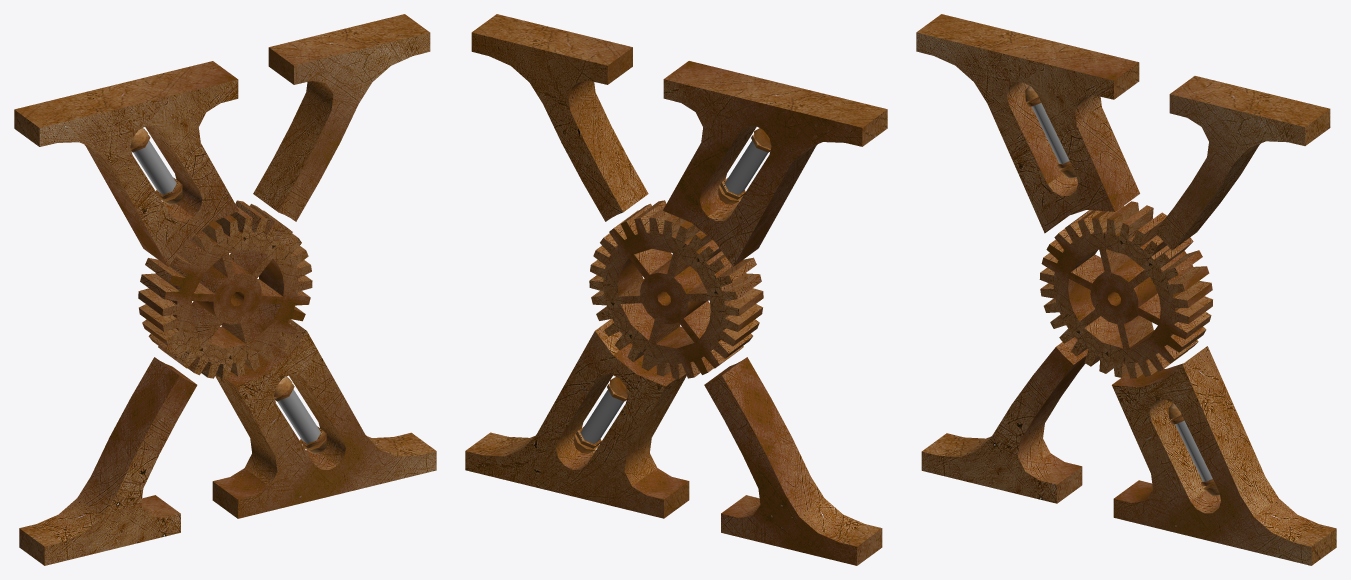
3 views of the same model, side by side, from view 1: azimuth 30°, elevation 25°; view 2: azimuth 150°, elevation 25°; view 3: azimuth 330°, elevation 25° (orthographic).
Parts seen in each view (by area): view 1: X, Cogwheel_306, Tube055, Tube047; view 2: X, Cogwheel_306, Tube047, Tube055; view 3: X, Cogwheel_306, Tube047, Tube055.
Boxes of the visible parts, left/top/right/bottom form: X: left=14, top=14, right=436, bottom=565; Cogwheel_306: left=138, top=200, right=312, bottom=378; Tube055: left=277, top=389, right=320, bottom=443; Tube047: left=133, top=140, right=176, bottom=194; X: left=465, top=14, right=887, bottom=565; Cogwheel_306: left=589, top=200, right=763, bottom=378; Tube047: left=724, top=140, right=767, bottom=195; Tube055: left=580, top=389, right=623, bottom=443; X: left=916, top=14, right=1336, bottom=565; Cogwheel_306: left=1039, top=201, right=1212, bottom=378; Tube047: left=1031, top=103, right=1069, bottom=163; Tube055: left=1175, top=420, right=1212, bottom=481.
Bounding box in the file's own units: 90.58 × 95.73 × 10.05.
2 materials, 1 textured.
